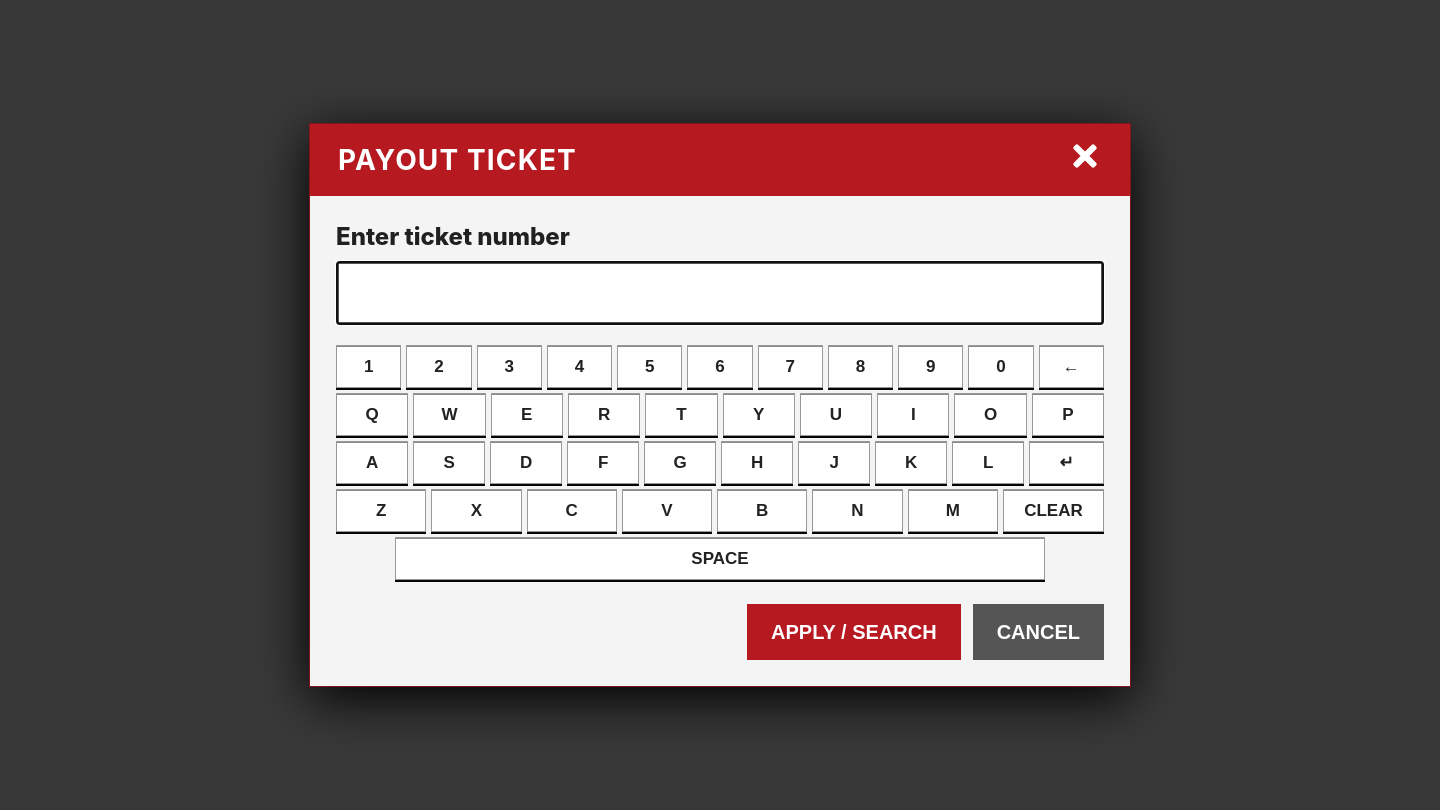
Test case: shows AlreadyPaid without another attempt
Step 1. Type "VT-ABC" into the field labelled "Enter ticket number" → (720, 293), box [336, 261, 1104, 325]
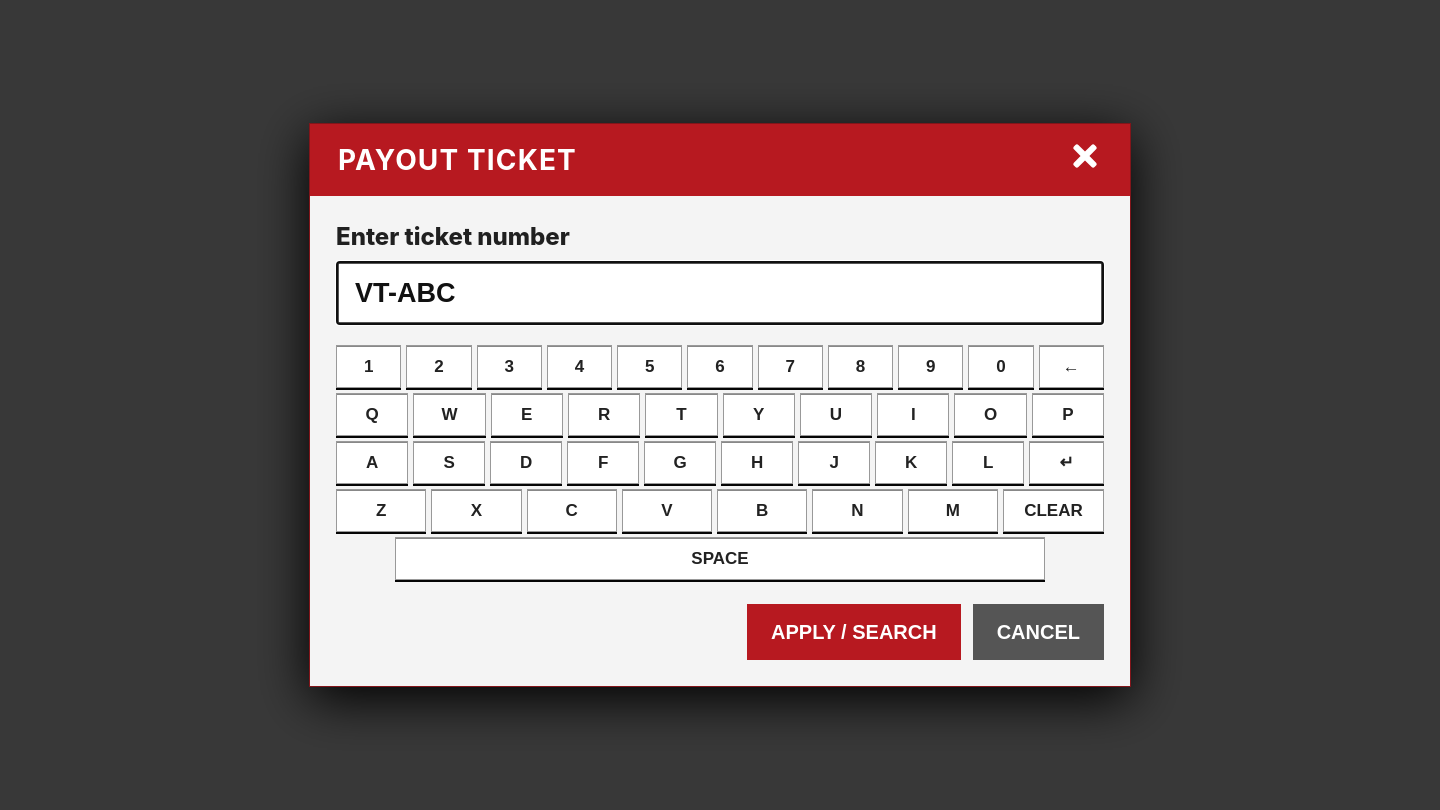
Step 2. Click the button "APPLY / SEARCH" → (854, 632), box [747, 604, 961, 660]
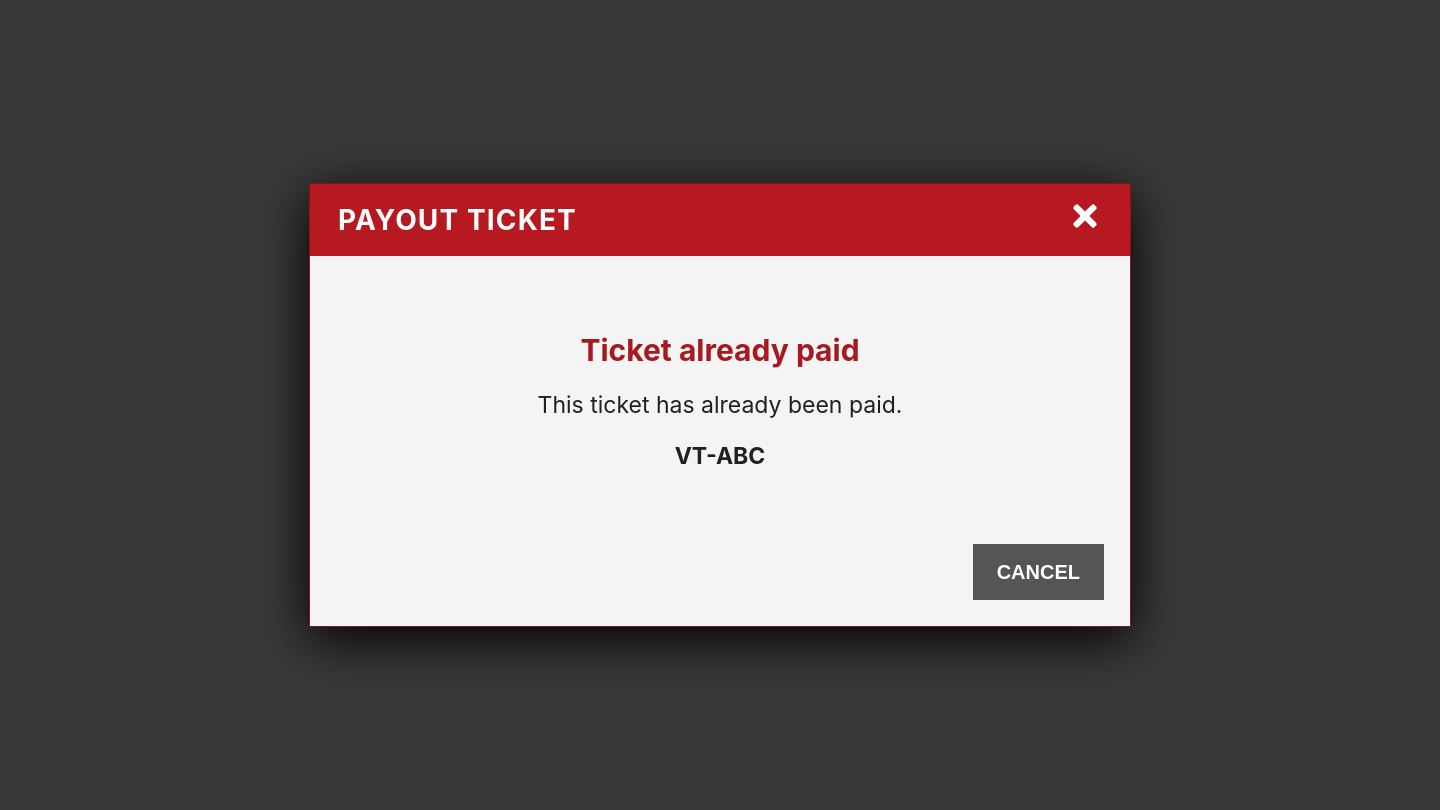
Check: the heading "Ticket already paid" is shown, box [580, 332, 860, 368]
